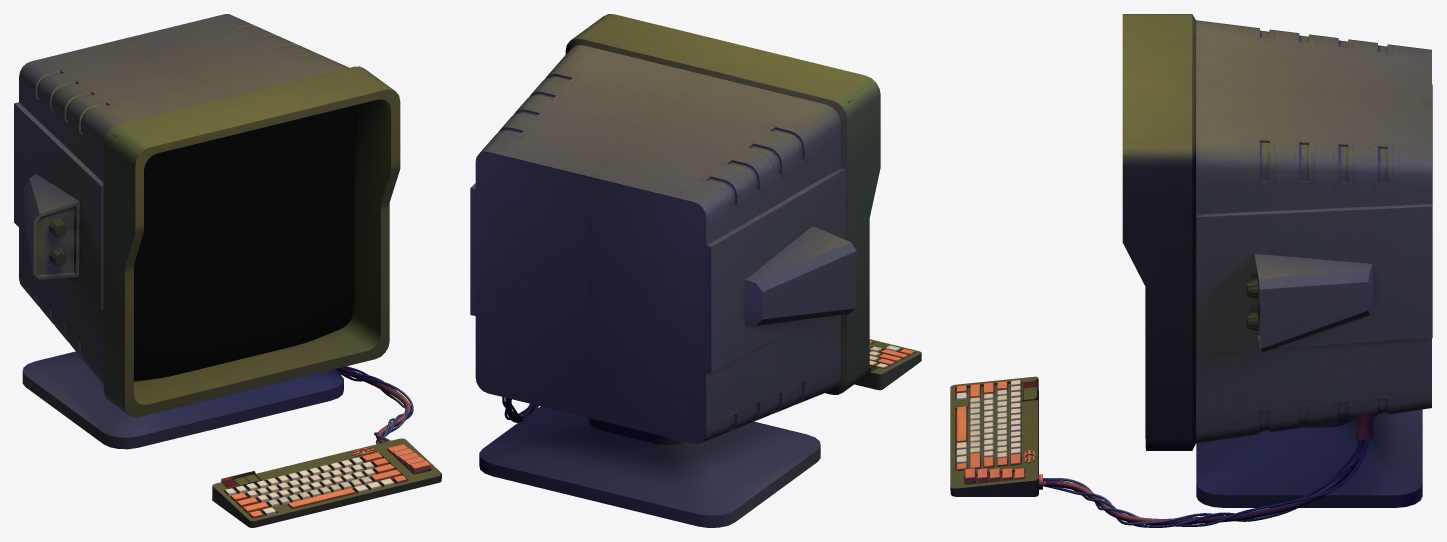
File: Fallout.glb
3 views of the same model, side by side, from view 1: azimuth 30°, elevation 25°; view 2: azimuth 150°, elevation 25°; view 3: azimuth 270°, elevation 25° (orthographic). The views are drawn at different scales.
Parts seen in each view (by area): view 1: PC_Video, Cube.003, Cube.001, Plane, Plane.020, Plane.014, Plane.001, Plane.002, Plane.003, Catenary.003, Plane.004, Catenary.002 (+2 smaller); view 2: Cube.003, Plane, Cube.001, Plane.020; view 3: Cube.003, Cube.001, Plane, Plane.020, Catenary.003, Catenary.002, Plane.014, Plane.001, Plane.019, Plane.003, Plane.002, Plane.004.
Boxes of the visible parts, x1,y1,x2,y2 form: PC_Video: (134, 105, 354, 381); Cube.003: (14, 14, 349, 384); Cube.001: (103, 66, 400, 416); Plane: (22, 351, 343, 449); Plane.020: (212, 438, 441, 527); Plane.014: (230, 452, 407, 518); Plane.001: (224, 457, 363, 496); Plane.002: (245, 461, 374, 498); Plane.003: (256, 468, 375, 502); Catenary.003: (334, 366, 413, 443); Plane.004: (266, 476, 372, 507); Catenary.002: (335, 367, 411, 443); Cube.003: (470, 44, 856, 443); Plane: (479, 406, 820, 527); Cube.001: (565, 14, 880, 394); Plane.020: (854, 339, 921, 390); Cube.003: (1196, 20, 1432, 443); Cube.001: (1122, 14, 1195, 450); Plane: (1196, 409, 1422, 507); Plane.020: (950, 376, 1038, 496); Catenary.003: (1043, 439, 1368, 527); Catenary.002: (1045, 439, 1364, 525); Plane.014: (956, 381, 1021, 470); Plane.001: (1010, 380, 1021, 455); Plane.019: (965, 468, 1025, 482); Plane.003: (983, 393, 994, 458); Plane.002: (997, 389, 1007, 459); Plane.004: (970, 397, 980, 454).
Size of the model in its own units: 12.85 by 11.92 by 14.14.
10 materials, 9 textured.
